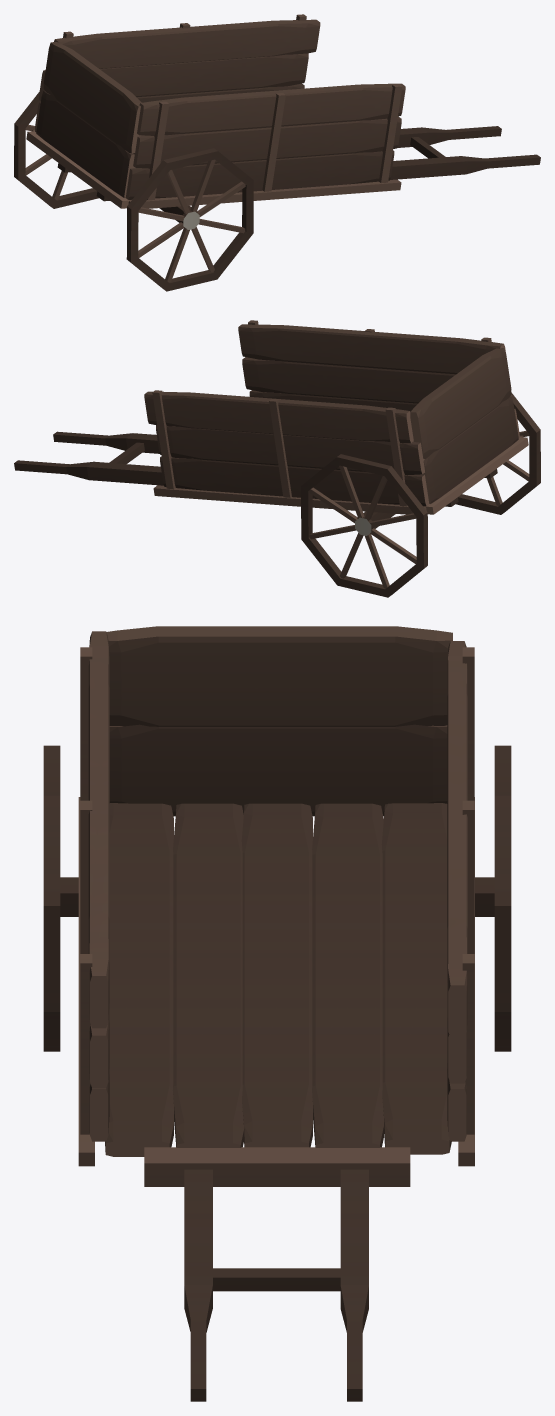
The model's file is Cart.fbx.
3 views of the same model, one above another, from view 1: azimuth 30°, elevation 25°; view 2: azimuth 150°, elevation 25°; view 3: azimuth 270°, elevation 25° (orthographic). The views are drawn at different scales.
Parts seen in each view (by area): view 1: cart; view 2: cart; view 3: cart.
Part boxes in pixels (left/top/right/bottom): cart: left=14, top=14, right=540, bottom=291; cart: left=14, top=320, right=540, bottom=597; cart: left=43, top=626, right=511, bottom=1401.
Bounding box in the file's own units: 4.32 × 1.96 × 1.67.
